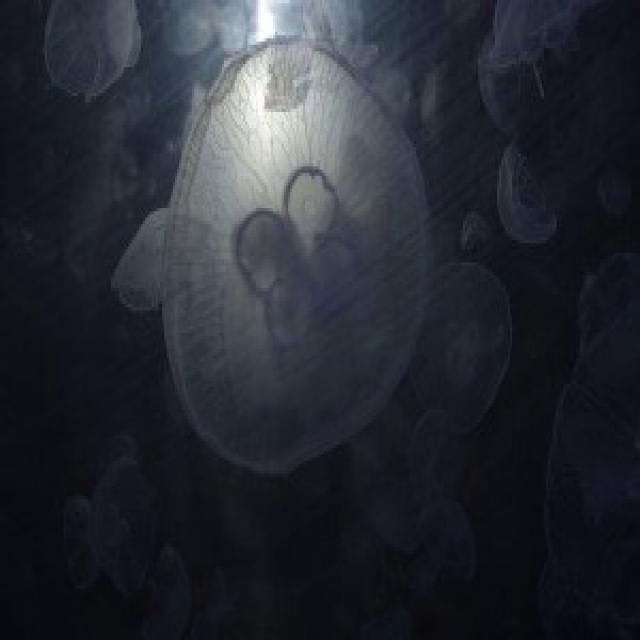Jellyfish: (156, 37, 428, 482), (417, 255, 524, 445), (80, 463, 158, 605)
